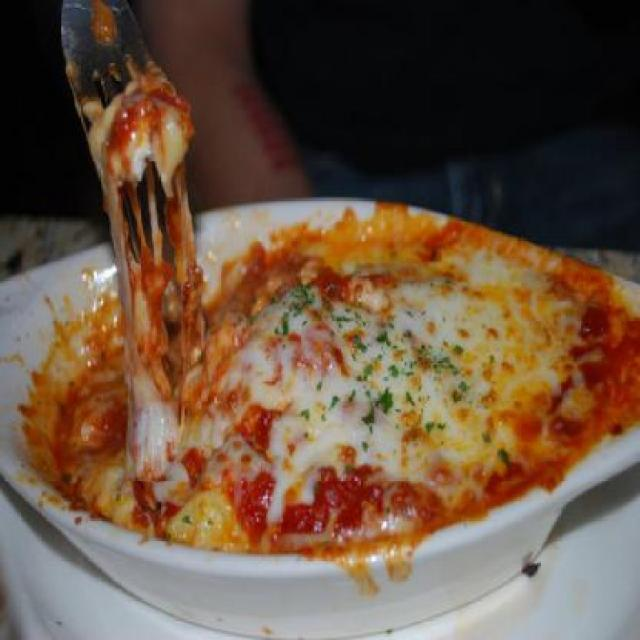Lasagna: (66, 214, 623, 551)
